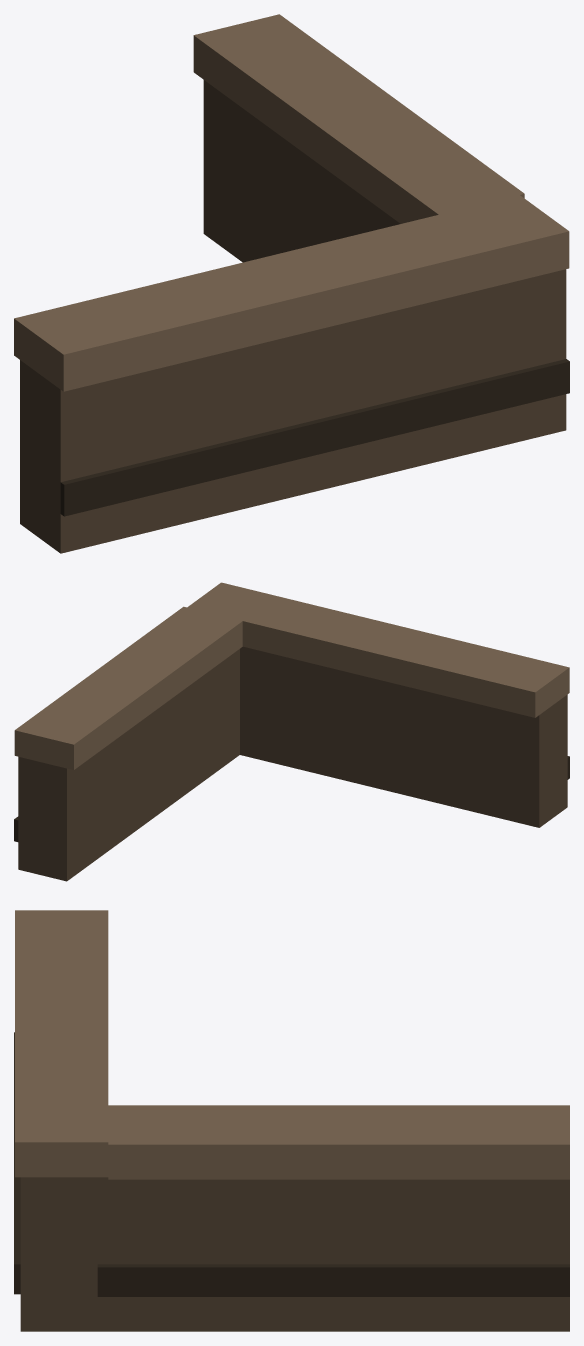
The model's file is CMU3DPlatformKutjevoSMCorner.glb.
The picture shows the model from 3 angles, top to bottom: view 1: azimuth 30°, elevation 25°; view 2: azimuth 150°, elevation 25°; view 3: azimuth 270°, elevation 25°; orthographic projection. The views are drawn at different scales.
Parts seen in each view (by area): view 1: south edge fascia, south edge cap, east return cap, east return fascia, front lower seam; view 2: south edge fascia, east return fascia, south edge cap, east return cap; view 3: east return fascia, east return cap, south edge cap, east lower seam, south edge fascia, front lower seam.
Part boxes in pixels (x1,y1,x2,y2): south edge fascia: (20, 269, 566, 553); south edge cap: (14, 195, 569, 391); east return cap: (193, 14, 524, 223); east return fascia: (203, 80, 400, 262); front lower seam: (60, 359, 569, 516); south edge fascia: (240, 646, 567, 827); east return fascia: (18, 649, 239, 881); south edge cap: (187, 582, 569, 717); east return cap: (14, 606, 242, 769); east return fascia: (97, 1177, 569, 1331); east return cap: (108, 1105, 569, 1179); south edge cap: (15, 910, 108, 1177); east lower seam: (97, 1264, 569, 1296); south edge fascia: (20, 1177, 97, 1331); front lower seam: (14, 1032, 20, 1294).
Size of the model in its own units: 1.01 by 0.38 by 1.01.
